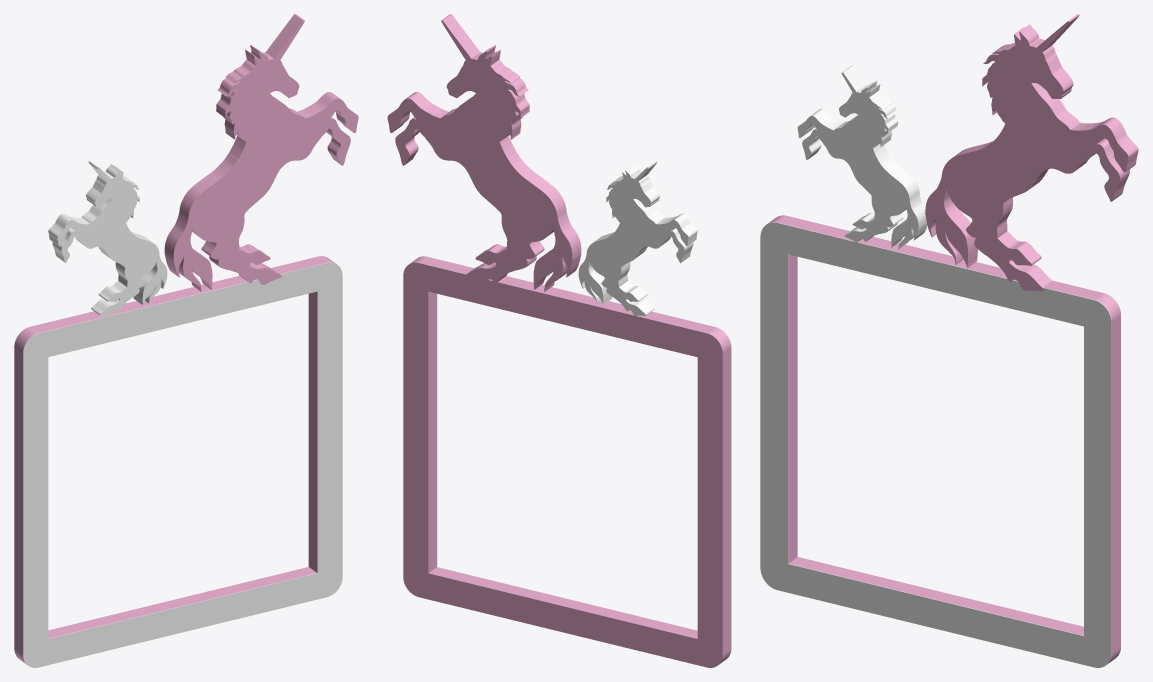
The model's file is tinker.obj.
The picture shows the model from 3 angles, left to right: view 1: azimuth 30°, elevation 25°; view 2: azimuth 150°, elevation 25°; view 3: azimuth 330°, elevation 25°; orthographic projection. The views are drawn at different scales.
Visible parts, largest first — view 1: group_0_16448250, group_0_15708628, group_0_16777215; view 2: group_0_15708628, group_0_16777215, group_0_16448250; view 3: group_0_16448250, group_0_15708628, group_0_16777215.
Boxes of the visible parts, bbox=[...] form: group_0_16448250: bbox=[23, 262, 342, 667]; group_0_15708628: bbox=[14, 14, 358, 664]; group_0_16777215: bbox=[48, 160, 167, 315]; group_0_15708628: bbox=[387, 14, 730, 667]; group_0_16777215: bbox=[578, 160, 697, 315]; group_0_16448250: bbox=[418, 256, 731, 655]; group_0_16448250: bbox=[760, 222, 1111, 667]; group_0_15708628: bbox=[768, 14, 1138, 663]; group_0_16777215: bbox=[797, 65, 927, 249].
Bounding box in the file's own units: 107 × 178 × 5.
